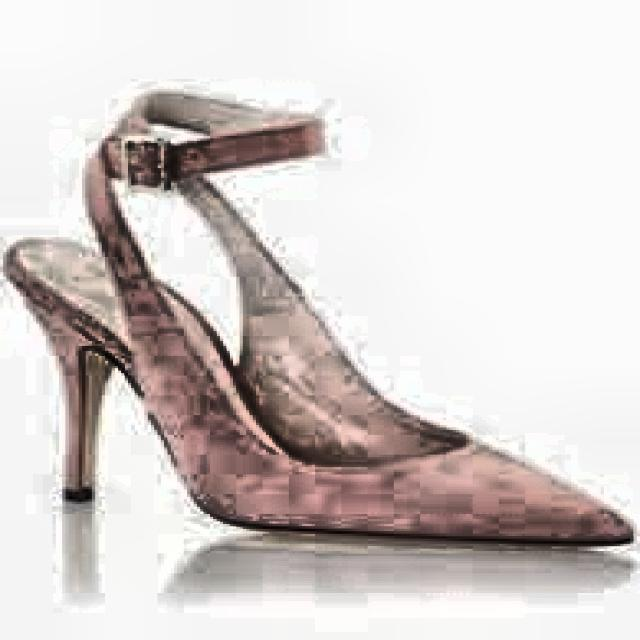shoes: (4, 74, 626, 631)
